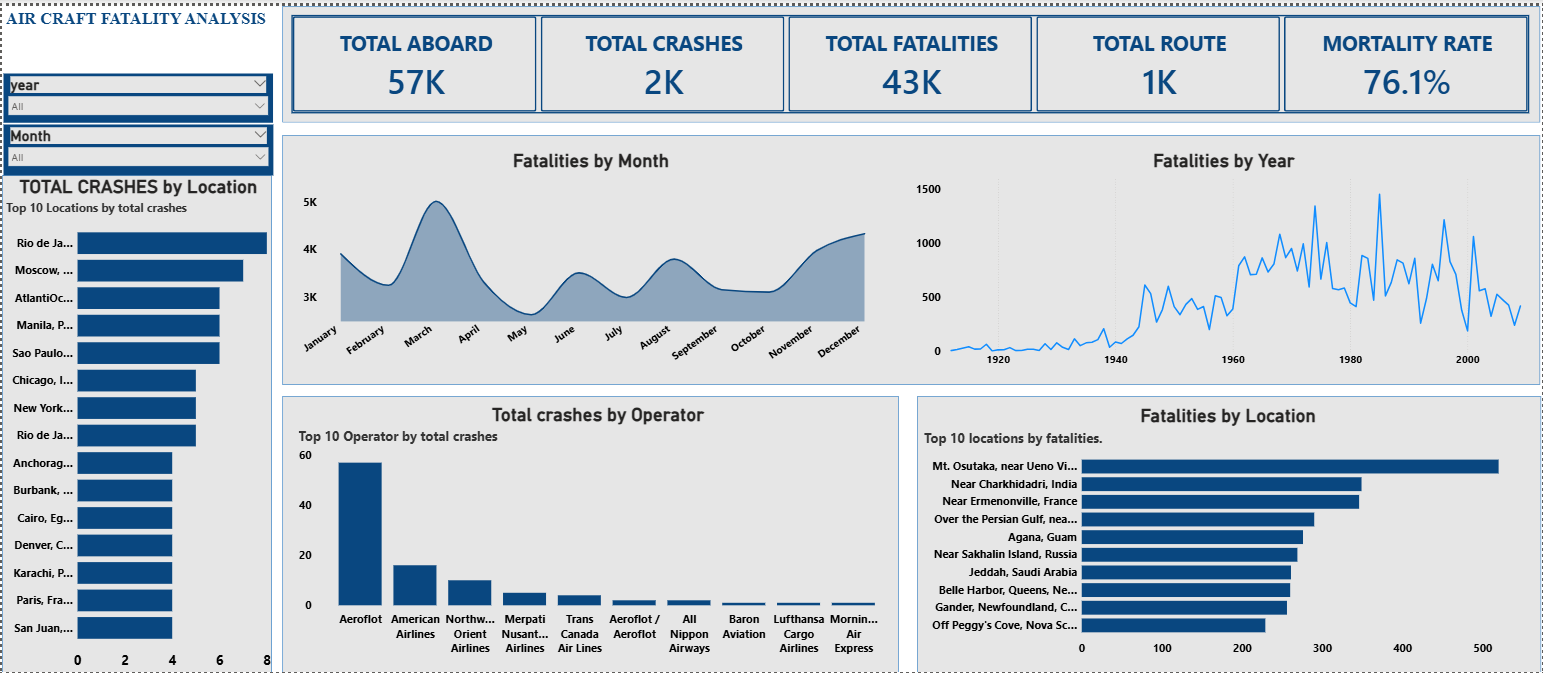

This screenshot's page, from the dashboard's own definition file:
{"tool":"powerbi","page":{"name":"FATALITIES ANALYSIS","canvas":[3000,1300],"ordinal":0},"visuals":[{"type":"shape","box":[547.8,0,2451.3,227],"z":0},{"type":"shape","box":[547.8,759.6,1201.4,541.7],"z":1000},{"type":"shape","box":[547.8,251.2,2451.3,487.2],"z":2000},{"type":"shape","box":[0,329.1,525.9,971.9],"z":3000},{"type":"shape","box":[1782.5,759.6,1216.5,541.7],"z":4000},{"type":"areaChart","title":"Fatalities by Month","fields":{"Y":["Airplane_Crashes_and_Fatalities.total fatalities"],"Category":["calender.Date.Variation.Date Hierarchy.Month"]},"box":[572,281.4,1150,432.8],"z":5000},{"type":"barChart","title":"Fatalities by Location","fields":{"Y":["Airplane_Crashes_and_Fatalities.total fatalities"],"Category":["Airplane_Crashes_and_Fatalities.Location"]},"box":[1791.5,777.7,1195.4,499.3],"z":6000},{"type":"barChart","fields":{"Category":["Airplane_Crashes_and_Fatalities.Location"],"Y":["Airplane_Crashes_and_Fatalities.TOTAL CRASHES"]},"box":[3.1,329.1,525.9,971.9],"z":7000},{"type":"columnChart","title":" Total crashes by Operator","fields":{"Category":["Airplane_Crashes_and_Fatalities.Operator"],"Y":["Airplane_Crashes_and_Fatalities.TOTAL CRASHES"]},"box":[572,774.7,1177.2,499.3],"z":8000},{"type":"lineChart","title":"Fatalities by Year","fields":{"Y":["Airplane_Crashes_and_Fatalities.TOTAL FATALITIES"],"Category":["calender.Date.Variation.Date Hierarchy.Year"]},"box":[1773.4,281.4,1213.5,432.8],"z":9000},{"type":"cardVisual","fields":{"Data":["Airplane_Crashes_and_Fatalities.TOTAL ABOARD","Airplane_Crashes_and_Fatalities.TOTAL CRASHES","Airplane_Crashes_and_Fatalities.total fatalities","Airplane_Crashes_and_Fatalities.total route","Airplane_Crashes_and_Fatalities.MORTALITY RATE"]},"box":[547.8,0,2451.3,227],"z":10000},{"type":"slicer","fields":{"Values":["calender.month"]},"box":[2.9,231,526.2,99.4],"z":11000},{"type":"textbox","box":[3.1,0,525.9,64.6],"z":12000},{"type":"slicer","fields":{"Values":["calender.year"]},"box":[3.5,131.3,525.2,95.8],"z":13000}]}

Visuals, with their boxes in screenshot pixels (x1, y1, x2, y2), scaled from the page's 3000x1300 canvas onto the 1543x673 screenshot:
shape: 282 0 1542 118
shape: 282 393 900 672
shape: 282 130 1542 382
shape: 0 170 270 672
shape: 917 393 1542 672
"Fatalities by Month" areaChart: 294 146 886 370
"Fatalities by Location" barChart: 921 403 1536 661
barChart - Airplane_Crashes_and_Fatalities.Location x Airplane_Crashes_and_Fatalities.TOTAL CRASHES: 2 170 272 672
" Total crashes by Operator" columnChart: 294 401 900 660
"Fatalities by Year" lineChart: 912 146 1536 370
cardVisual - Airplane_Crashes_and_Fatalities.TOTAL ABOARD x Airplane_Crashes_and_Fatalities.TOTAL CRASHES: 282 0 1542 118
slicer - calender.month: 1 120 272 171
textbox: 2 0 272 33
slicer - calender.year: 2 68 272 118
